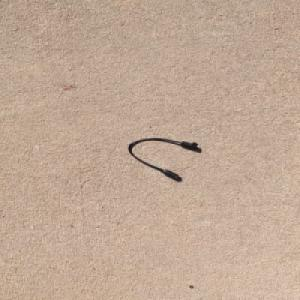Wire: (125, 136, 199, 180)
